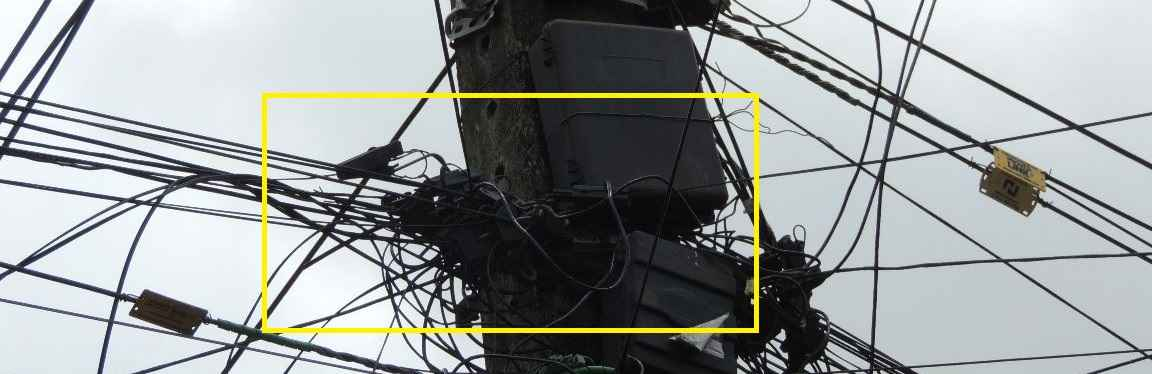caixa_derivacao: (530, 12, 726, 222), (603, 227, 744, 370)
drop: (426, 207, 499, 273), (758, 227, 829, 292), (334, 136, 401, 190), (419, 149, 484, 199)
fibra_optica: (709, 12, 884, 117), (975, 134, 1049, 222), (129, 277, 216, 342)
